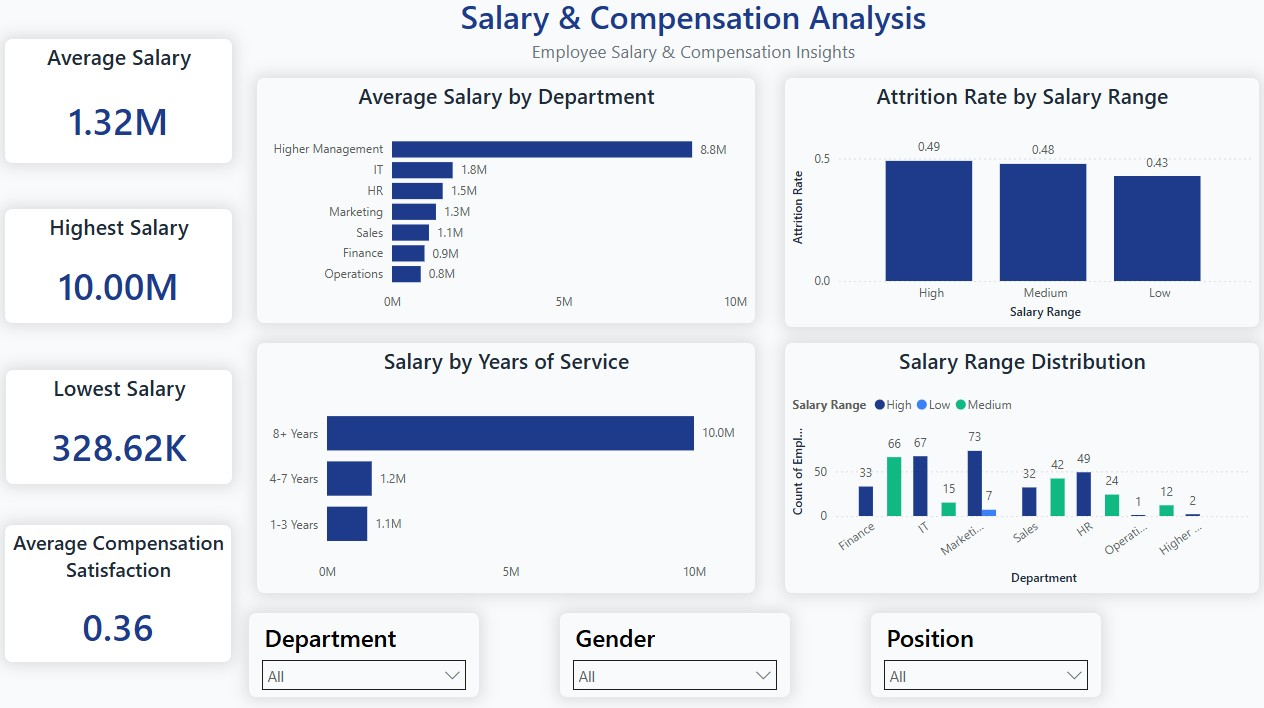

This screenshot's page, from the dashboard's own definition file:
{"tool":"powerbi","page":{"name":"Salary & Compensation Analysis","canvas":[1280,720],"ordinal":5},"visuals":[{"type":"textbox","title":"Salary & Compensation Analysis","box":[408,0,584,91],"z":0},{"type":"card","title":"Average Salary","fields":{"Values":["Avg(hr_data_cleaned.Salary)"]},"box":[10,44,229,126],"z":1000},{"type":"card","title":"Highest Salary","fields":{"Values":["Max(hr_data_cleaned.Salary)"]},"box":[10,214.3,229,116],"z":2000},{"type":"card","title":"Lowest Salary","fields":{"Values":["Min(hr_data_cleaned.Salary)"]},"box":[11,374.7,228,116],"z":3000},{"type":"card","title":"Average Compensation Satisfaction","fields":{"Values":["Avg(hr_data_cleaned.JobSatisfaction_Compensation)"]},"box":[10,530,228,139],"z":4000},{"type":"clusteredBarChart","title":"Average Salary by Department","fields":{"Category":["hr_analytics hr_data_cleaned.Department"],"Y":["hr_data_cleaned.Average Salary"]},"box":[262,83,500,247],"z":5000},{"type":"columnChart","title":"Attrition Rate by Salary Range","fields":{"Category":["hr_data_cleaned.Salary Range"],"Y":["hr_data_cleaned.Attrition Rate"]},"box":[790,83,476,251],"z":6000},{"type":"clusteredBarChart","title":" Salary by Years of Service","fields":{"Category":["hr_data_cleaned.Years Of Service"],"Y":["Median(hr_data_cleaned.Salary)"]},"box":[262,348,500,252],"z":7000},{"type":"clusteredColumnChart","title":"Salary Range Distribution","fields":{"Category":["hr_data_cleaned.Department"],"Series":["hr_data_cleaned.Salary Range"],"Y":["CountNonNull(hr_data_cleaned.Employee_ID)"]},"box":[790,348,476,252],"z":8000},{"type":"slicer","fields":{"Values":["hr_analytics hr_data_cleaned.Department"]},"box":[253.9,617.5,232.1,86.1],"z":9000},{"type":"slicer","fields":{"Values":["hr_analytics hr_data_cleaned.Gender"]},"box":[564.9,617.5,232.1,86.1],"z":10000},{"type":"slicer","fields":{"Values":["hr_analytics hr_data_cleaned.Position"]},"box":[876,617.5,232.1,86.1],"z":11000}]}

Visuals, with their boxes in screenshot pixels (x1, y1, x2, y2), scaled from the page's 1280x720 canvas onto the 1264x708 screenshot:
"Salary & Compensation Analysis" textbox: <box>403,0,980,89</box>
"Average Salary" card: <box>10,43,236,167</box>
"Highest Salary" card: <box>10,211,236,325</box>
"Lowest Salary" card: <box>11,368,236,483</box>
"Average Compensation Satisfaction" card: <box>10,521,235,658</box>
"Average Salary by Department" clusteredBarChart: <box>259,82,752,324</box>
"Attrition Rate by Salary Range" columnChart: <box>780,82,1250,328</box>
" Salary by Years of Service" clusteredBarChart: <box>259,342,752,590</box>
"Salary Range Distribution" clusteredColumnChart: <box>780,342,1250,590</box>
slicer - hr_analytics hr_data_cleaned.Department: <box>251,607,480,692</box>
slicer - hr_analytics hr_data_cleaned.Gender: <box>558,607,787,692</box>
slicer - hr_analytics hr_data_cleaned.Position: <box>865,607,1094,692</box>
